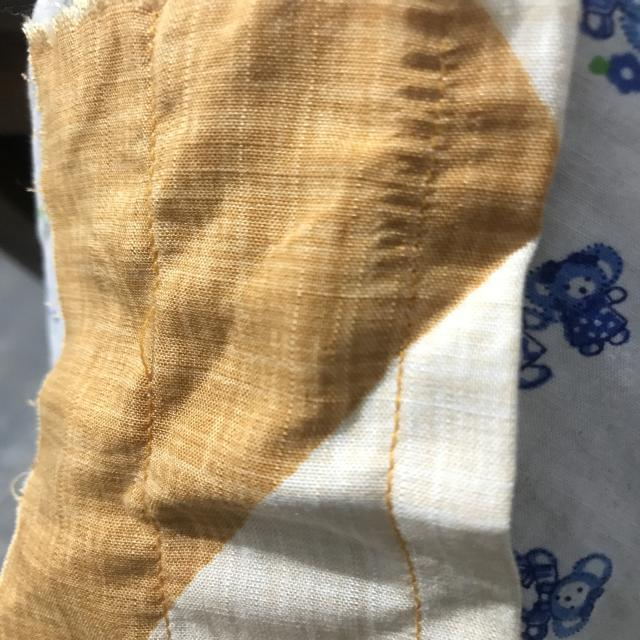skip: (123, 297, 177, 397)
